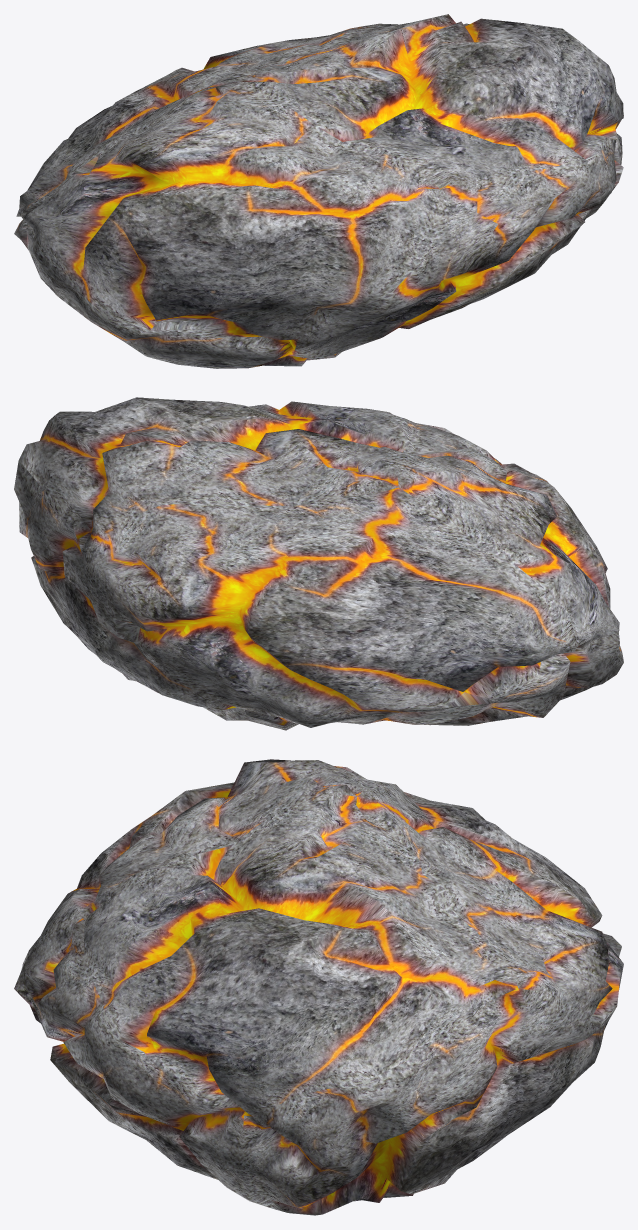
File: Asteroid_08_L0.FBX
3 renders of one model, top to bottom at view 1: azimuth 30°, elevation 25°; view 2: azimuth 150°, elevation 25°; view 3: azimuth 270°, elevation 25°, orthographic. The views are drawn at different scales.
Parts seen in each view (by area): view 1: Asteroid; view 2: Asteroid; view 3: Asteroid.
Boxes of the visible parts, x1,y1,x2,y2 form: Asteroid: (14, 14, 623, 368); Asteroid: (14, 397, 623, 730); Asteroid: (14, 759, 623, 1215).
Size of the model in its own units: 4.07 by 1.73 by 3.11.
